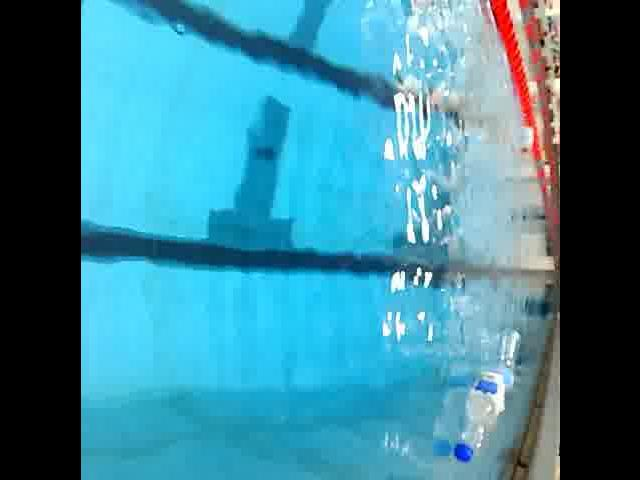Bottle: (450, 364, 508, 466), (490, 324, 526, 400)
